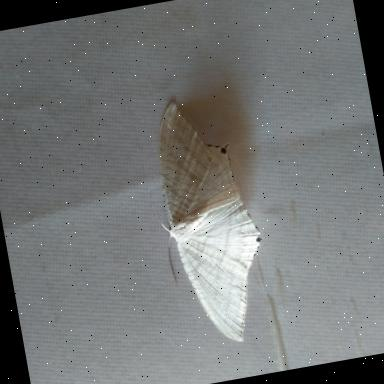abw: (136, 86, 279, 354)
